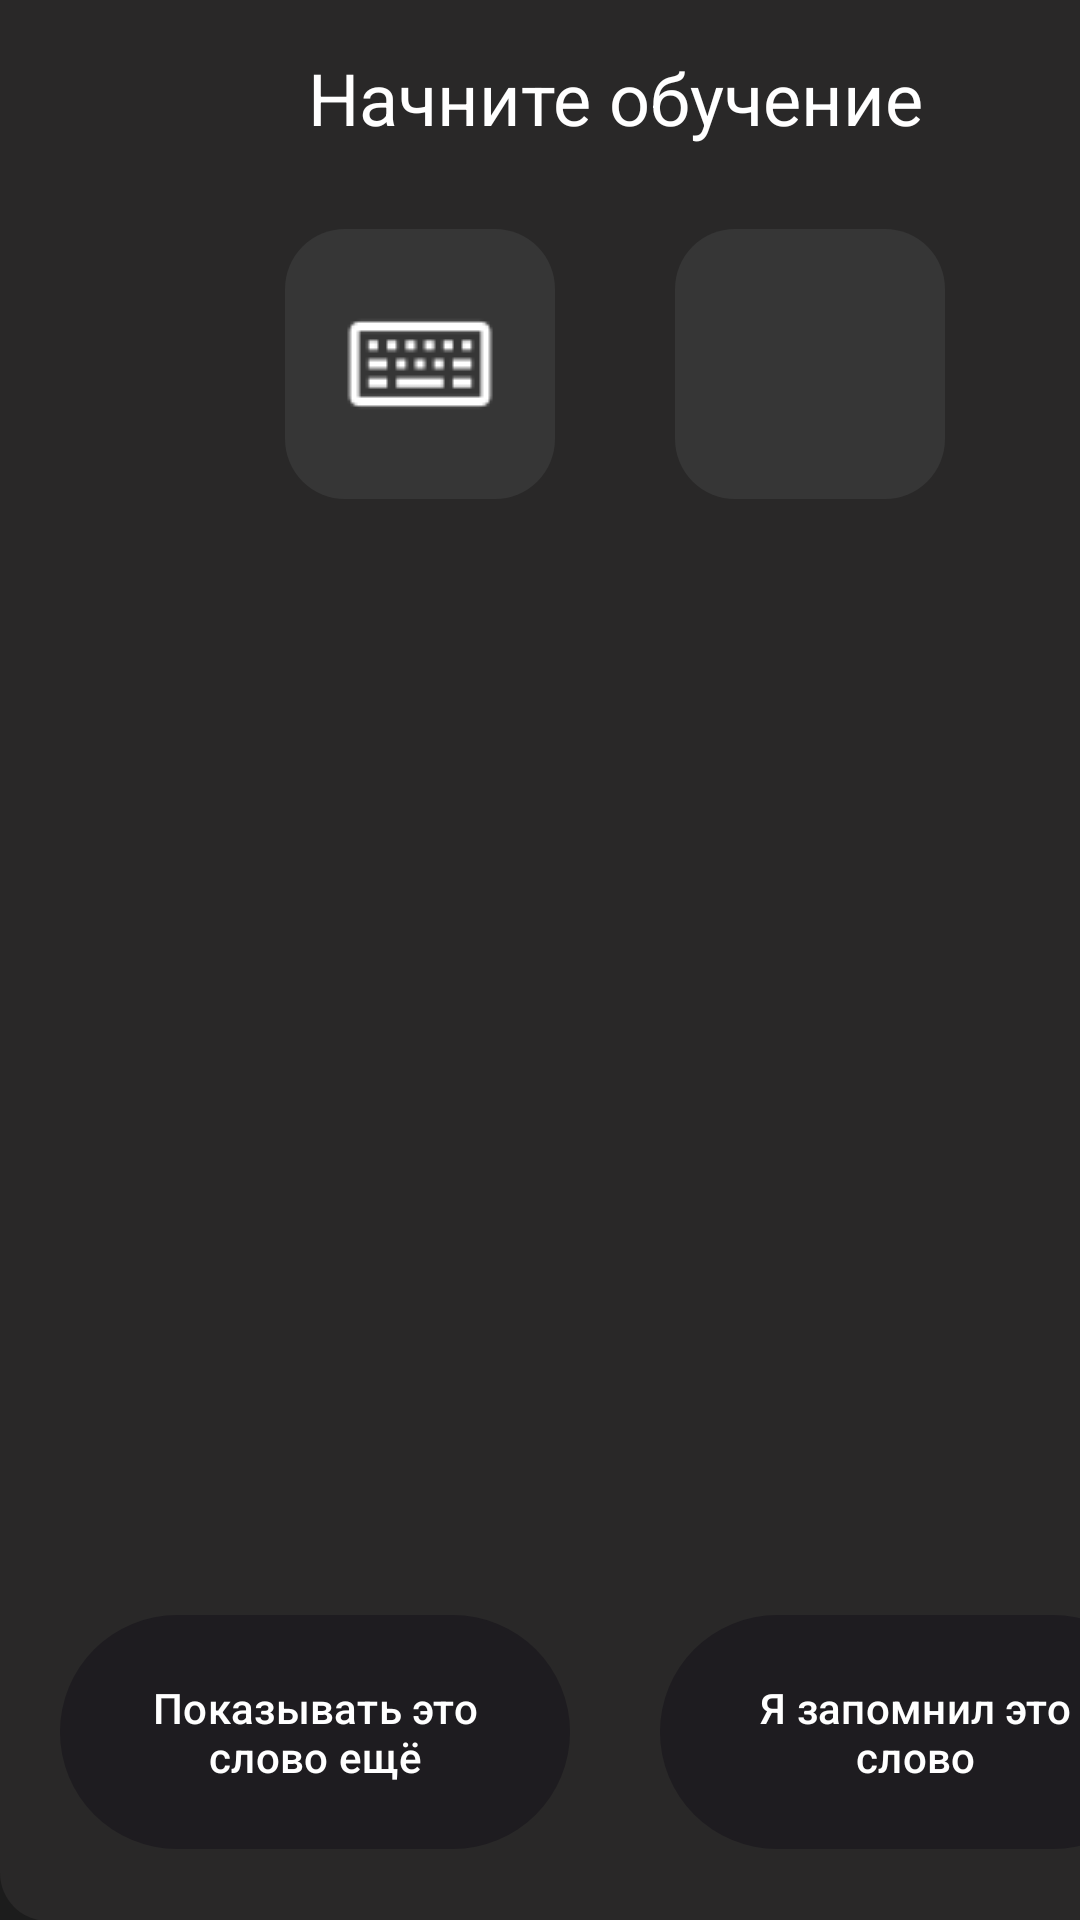

Where icons sit on this 1080px×1920px app screen, as bbox=(x1, y1, x2, y2):
clava: bbox=(347, 320, 493, 408)
